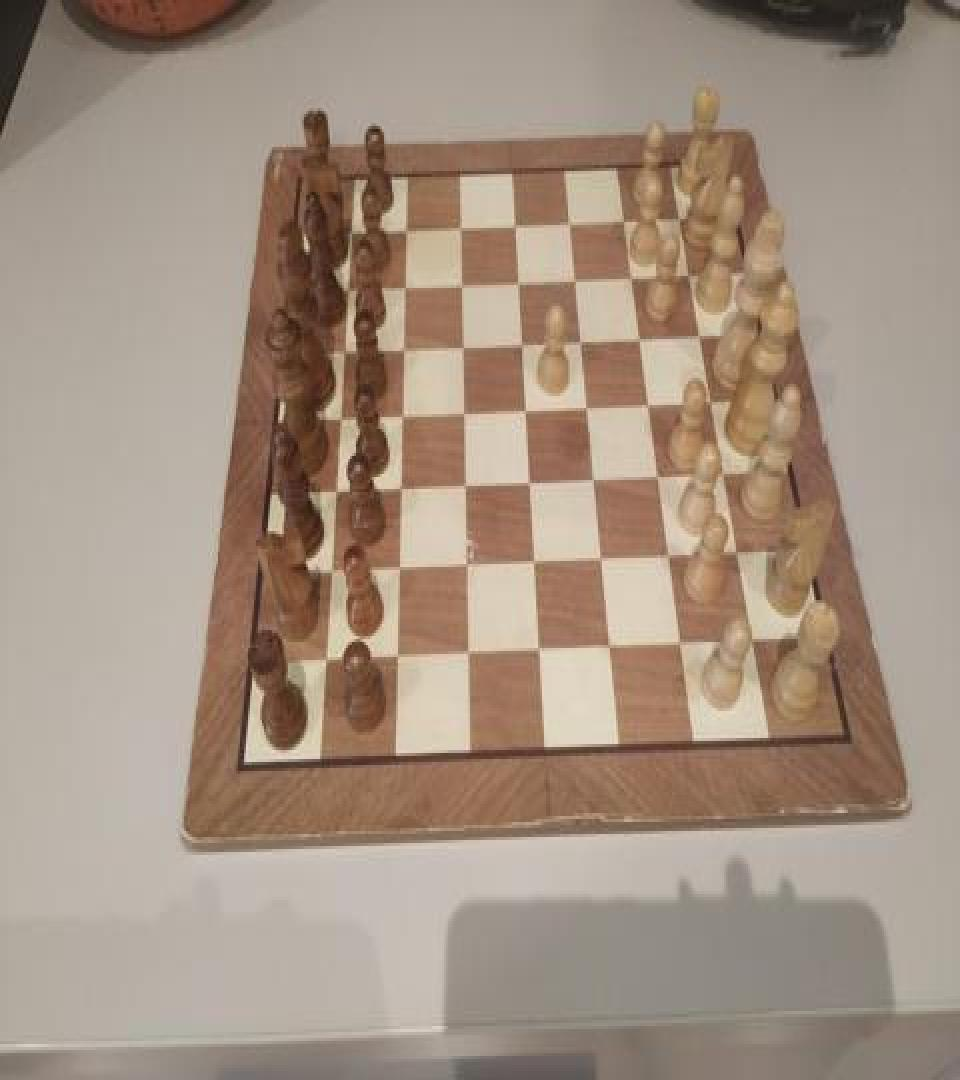xcorner: (520, 472, 538, 500), (453, 400, 471, 428), (642, 394, 660, 422), (573, 328, 591, 356), (336, 274, 354, 302), (509, 268, 527, 296), (683, 262, 701, 290), (395, 214, 413, 242), (385, 647, 403, 674), (529, 640, 547, 667), (673, 634, 691, 661), (745, 633, 763, 660), (318, 561, 336, 588), (387, 558, 405, 585), (456, 555, 474, 582), (524, 552, 542, 579), (593, 551, 611, 578), (730, 545, 748, 572), (323, 480, 341, 507), (389, 477, 407, 504), (455, 474, 473, 501), (586, 470, 604, 497), (651, 468, 669, 495), (717, 465, 735, 492), (328, 405, 346, 432), (391, 404, 409, 431), (516, 399, 534, 426), (579, 396, 597, 423), (392, 336, 410, 363), (452, 333, 470, 360), (513, 331, 531, 358), (633, 327, 651, 354), (693, 324, 711, 351), (394, 273, 412, 300), (567, 267, 585, 294), (625, 264, 643, 291), (339, 217, 357, 244), (451, 213, 469, 240), (506, 212, 524, 239), (562, 210, 580, 237), (618, 207, 636, 234), (313, 650, 331, 676), (457, 644, 475, 670), (601, 638, 619, 664), (662, 548, 680, 574), (705, 392, 723, 418), (332, 338, 350, 364), (452, 272, 470, 298), (673, 206, 691, 232)
